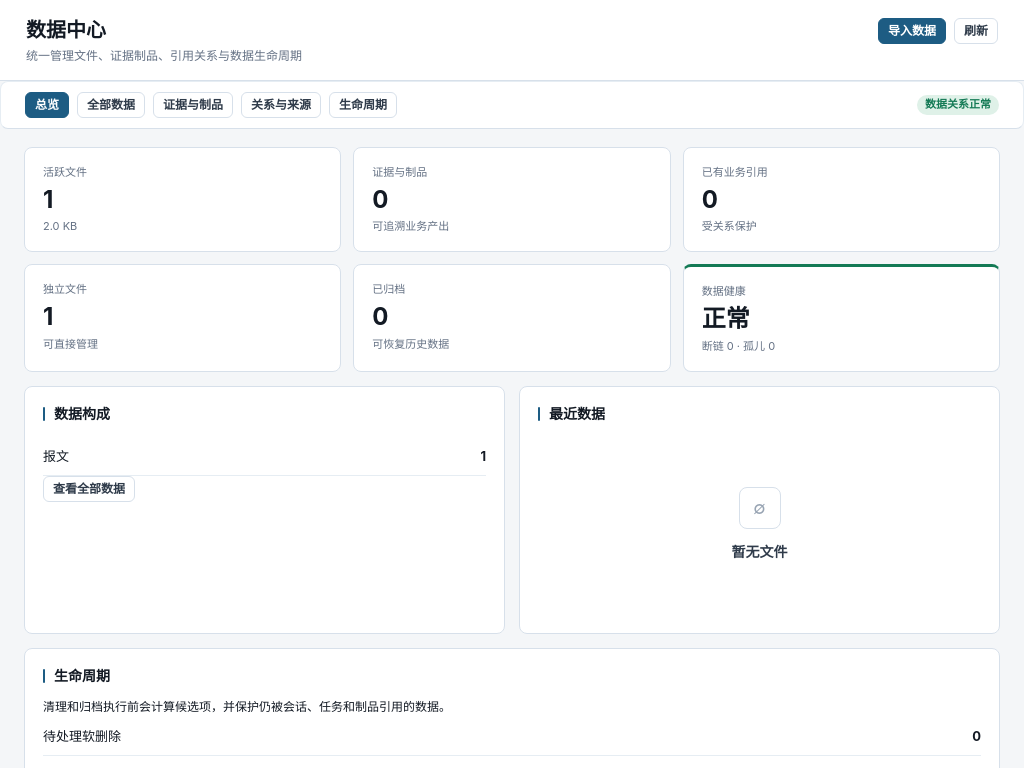
Test: DataCenter › keeps baseline authority and contextual evidence visibly distinct
Click the button "证据与制品" at (193, 105), box [153,92,233,118]
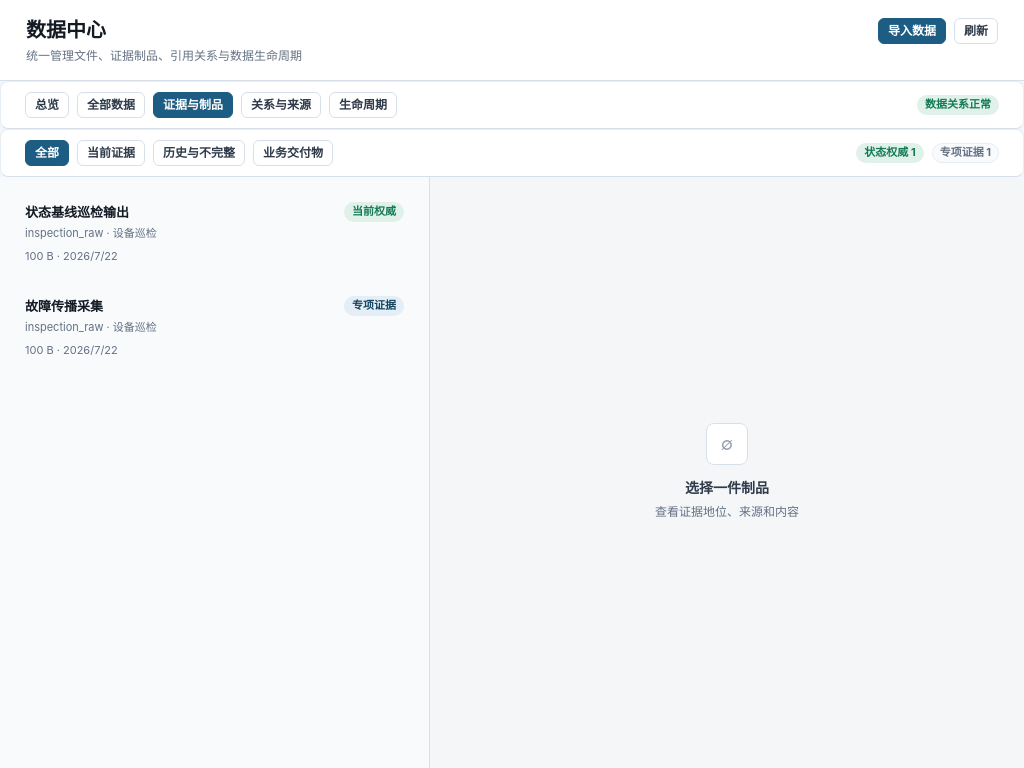
Expected: the text "当前权威" is shown, [344,202,404,222]
Expected: the text "专项证据" is shown, [344,296,404,316]
Expected: the text "状态权威 1" is shown, [856,143,924,163]
